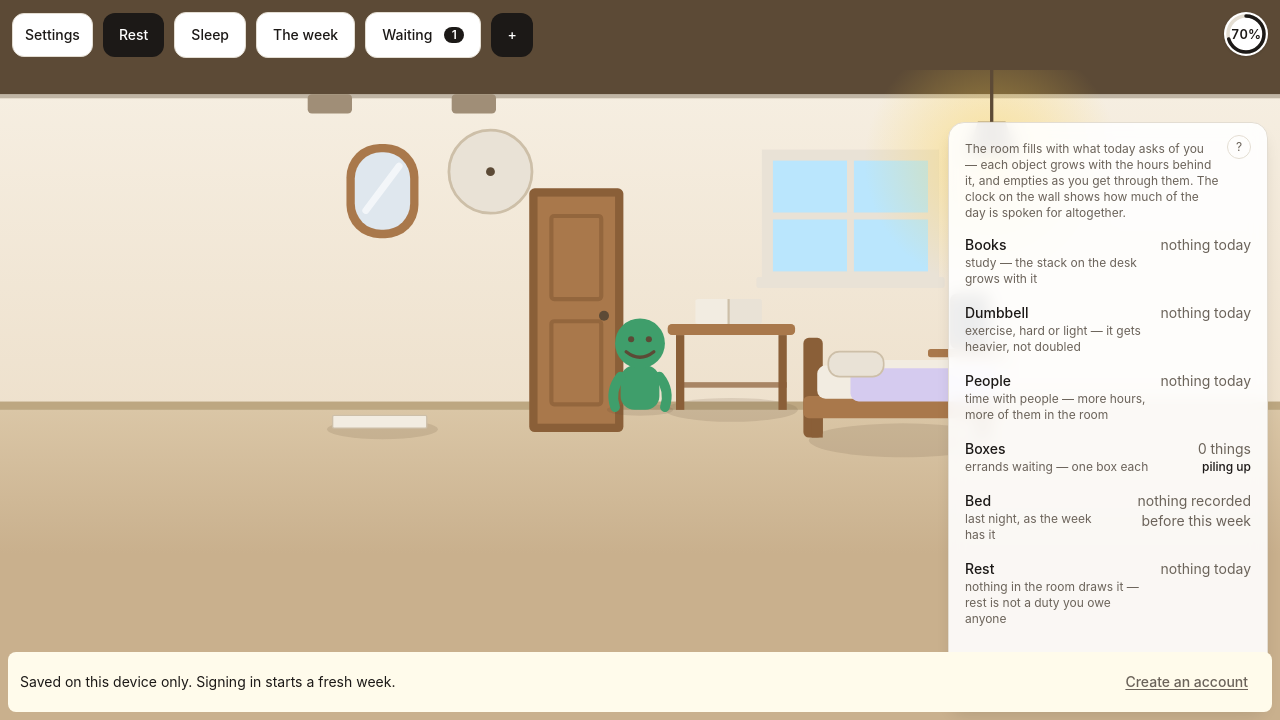
Test: Back and close, which are not the same button › steps Back from a sub-flow to the chooser
Click the button with test id "open-add". click: {"x": 512, "y": 35}
box: [491,13,533,57]
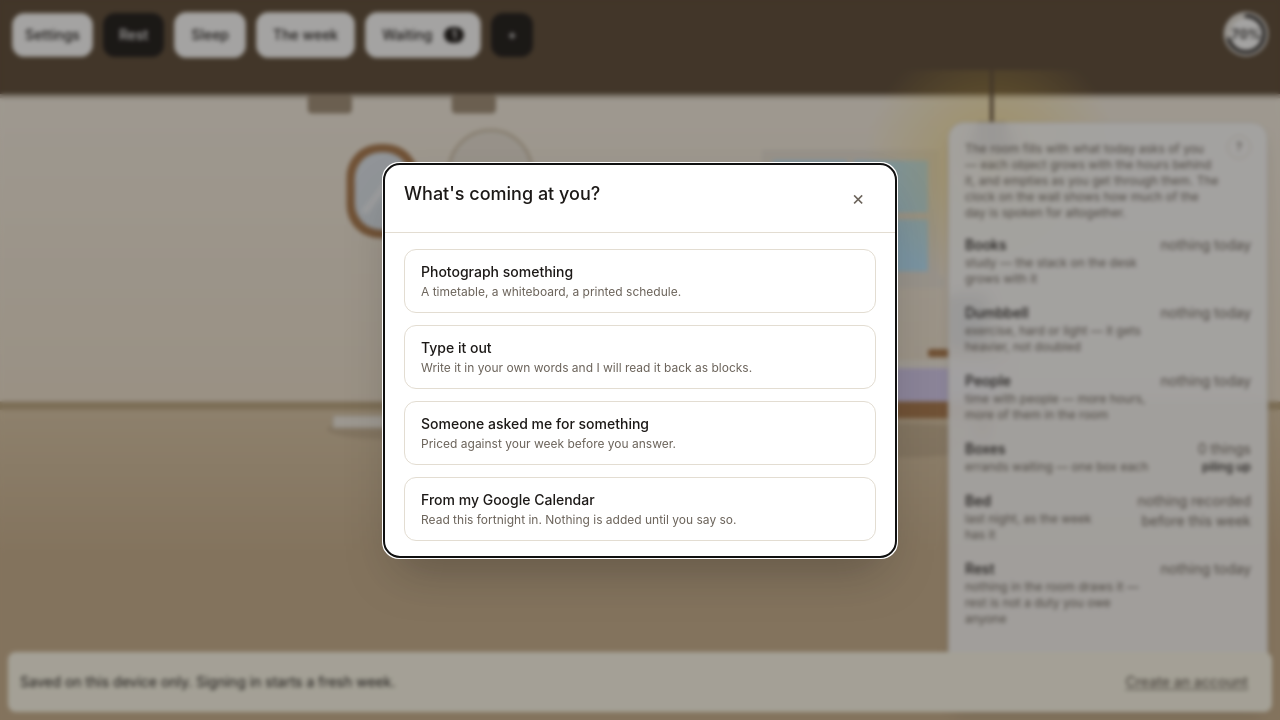
Click the button with test id "add-photo". click: {"x": 640, "y": 280}
box: [404,248,876,312]
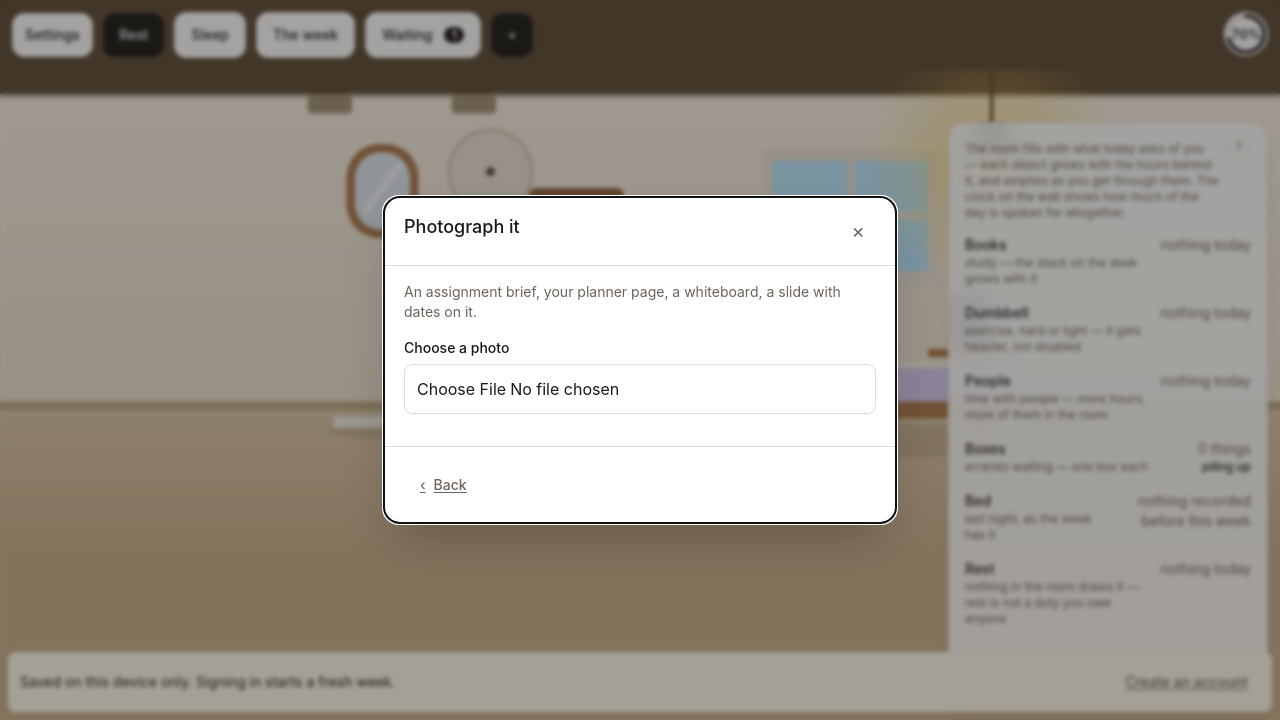
Click the button with test id "sheet-back". click: {"x": 443, "y": 485}
box: [404,463,483,507]
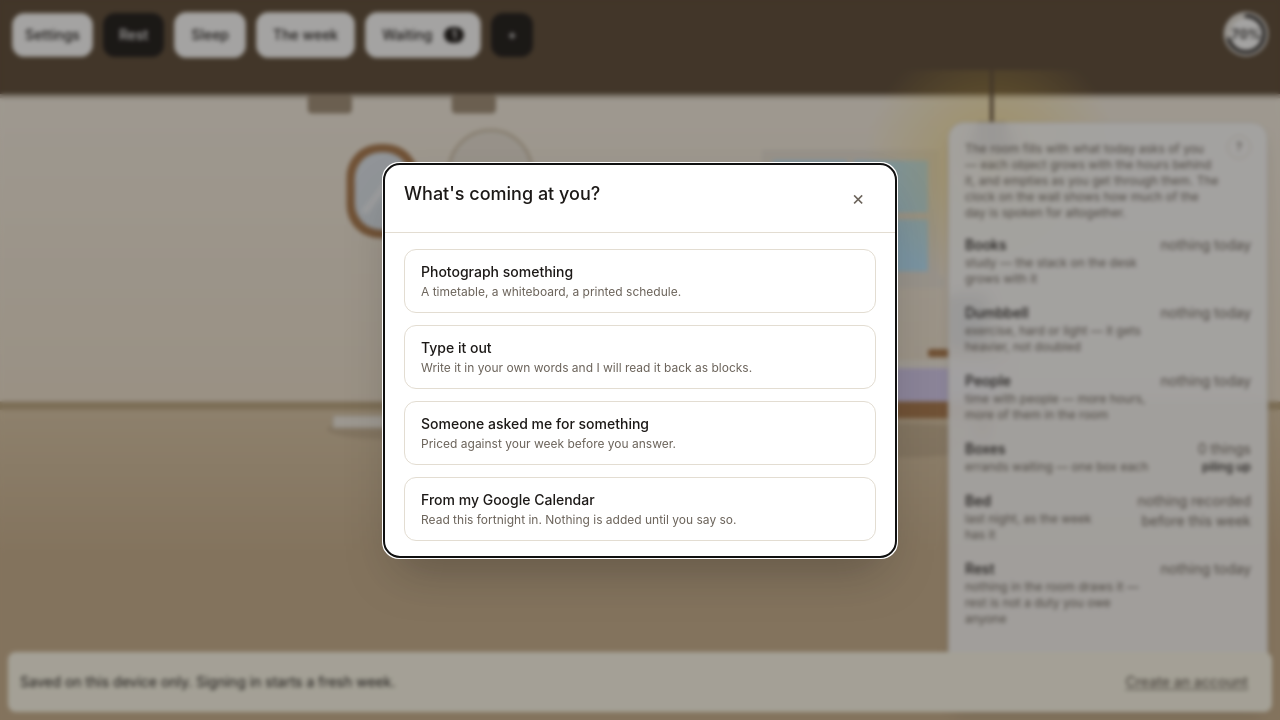
Result: the button with test id "add-photo" is shown at [404,248,876,312]
